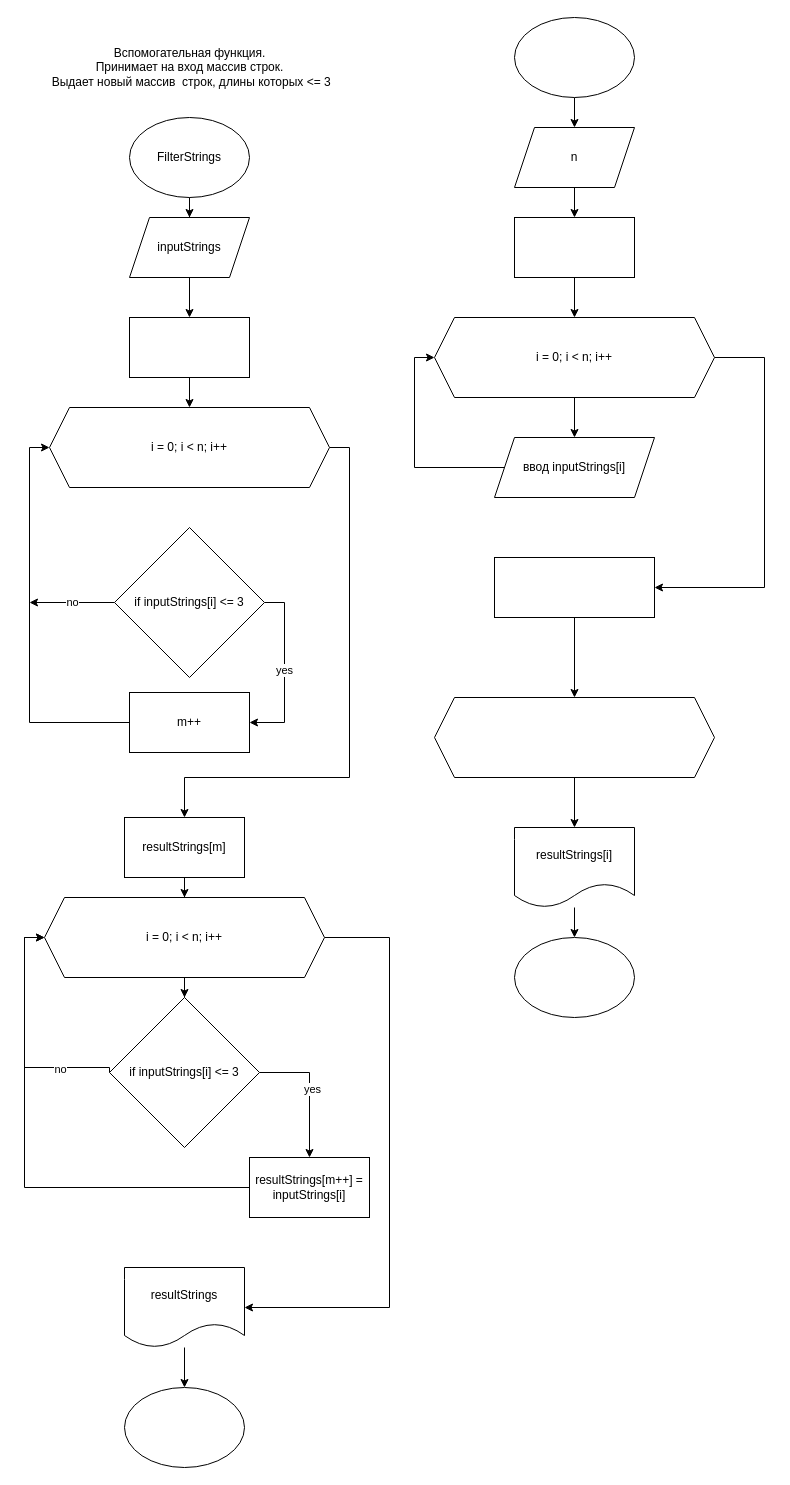
This 790x1485 diagram has some shape labels left out. Here are the shapes that lost their labels. From the top down, the box of each, then its label:
(514, 16, 634, 98): start
(514, 216, 634, 278): inputStrings [ n ]
(128, 316, 250, 378): n = Lengths(inputStrings) m = 0
(494, 556, 654, 618): resultStrings = FilterStrings(inputStrings)
(434, 696, 714, 778): i = 0; i < resultStrings.Length; i++
(514, 936, 634, 1018): end
(124, 1386, 244, 1468): end FiltreStrings
